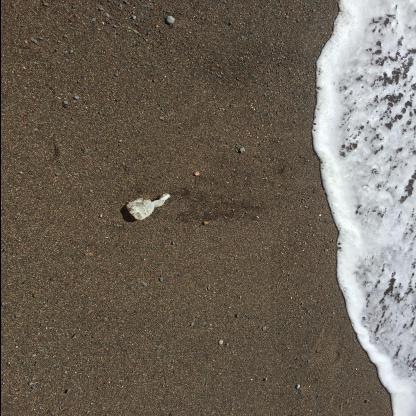plastik: (127, 195, 171, 221)
